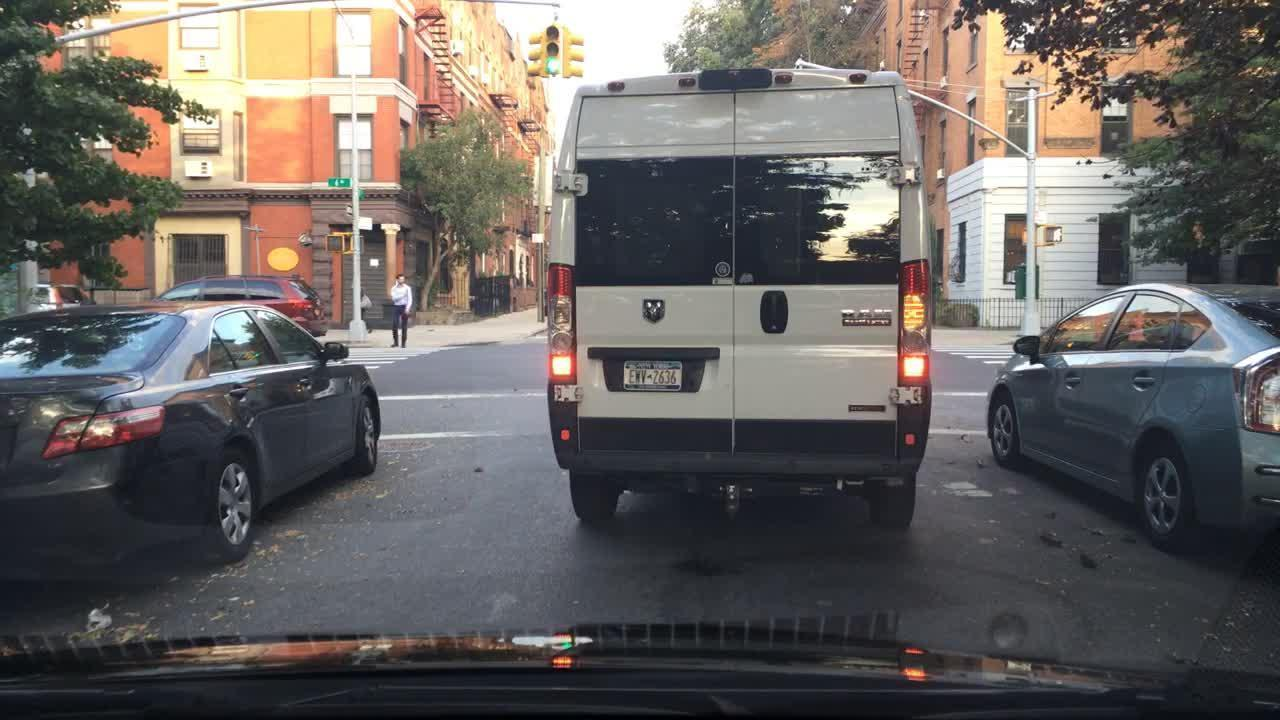ram: (633, 291, 672, 326)
